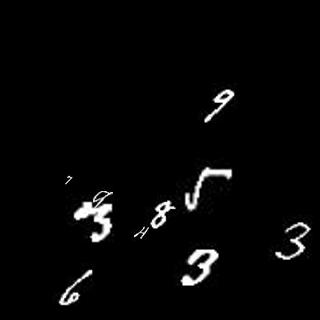eight: (148, 198, 175, 230)
five: (185, 166, 235, 213)
four: (133, 225, 149, 240)
nine: (202, 88, 237, 125), (91, 186, 115, 207)
seven: (63, 174, 74, 186)
six: (58, 268, 94, 306)
three: (180, 248, 221, 287), (274, 219, 311, 262), (84, 202, 115, 242)
